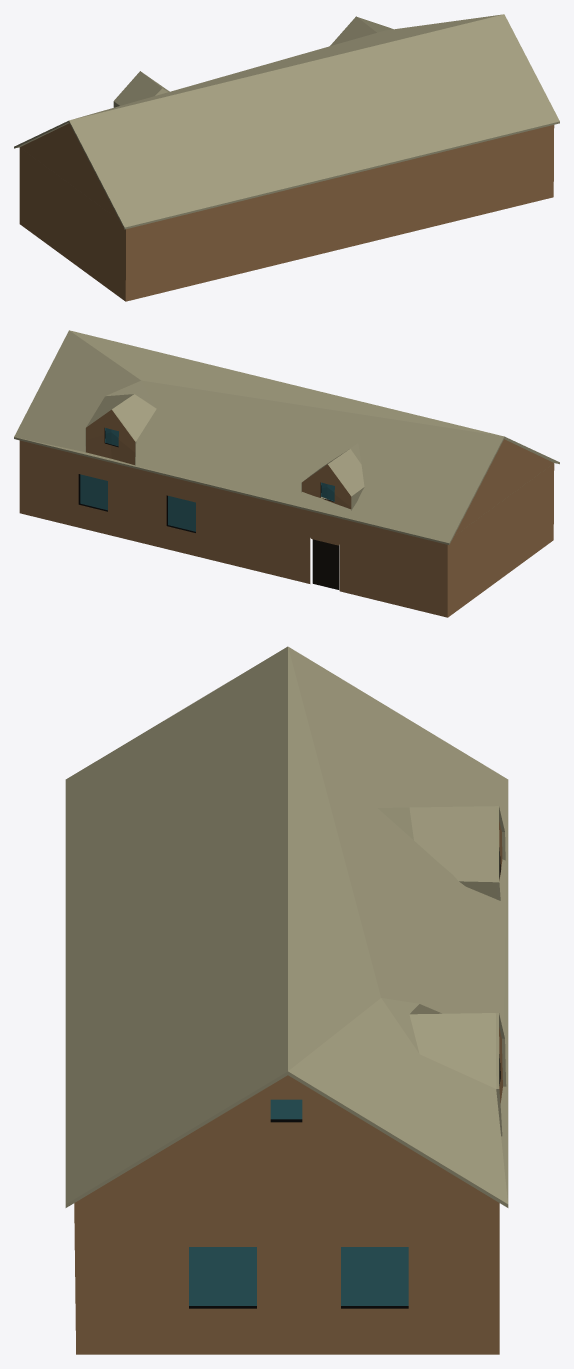
File: Avlangt_Brunt_hus.fbx
The picture shows the model from 3 angles, top to bottom: view 1: azimuth 30°, elevation 25°; view 2: azimuth 150°, elevation 25°; view 3: azimuth 270°, elevation 25°; orthographic projection. The views are drawn at different scales.
Visible parts, largest first — view 1: building_002.004; view 2: building_002.004; view 3: building_002.004.
Part boxes in pixels (bbox=[...]): building_002.004: bbox=[14, 14, 559, 301]; building_002.004: bbox=[14, 330, 559, 617]; building_002.004: bbox=[65, 646, 508, 1354].
Size of the model in its own units: 14.26 by 4.49 by 6.28.
